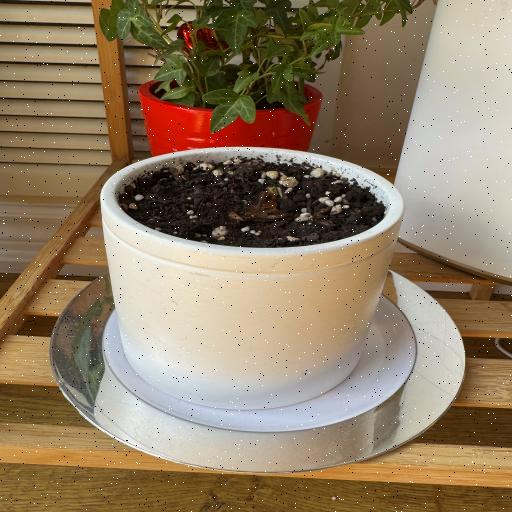Plant Pot: (96, 147, 408, 414), (138, 69, 319, 159)
